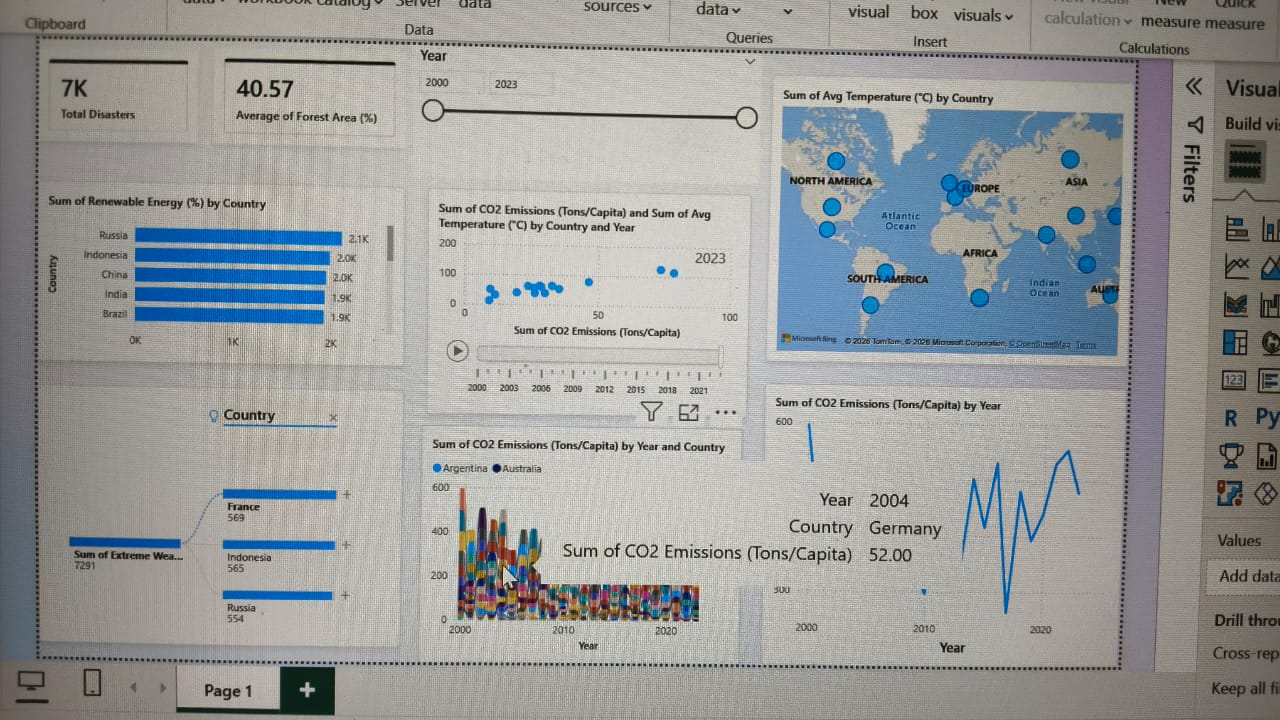

What the dashboard file says about the page in this screenshot:
{"tool":"powerbi","page":{"name":"Page 1","canvas":[1280,720],"ordinal":0},"visuals":[{"type":"map","fields":{"Category":["climate_change_dataset.Country"],"Size":["Sum(climate_change_dataset.Avg Temperature (°C))"]},"box":[850.1,24.3,429.1,335.2],"z":0},{"type":"lineChart","fields":{"Category":["climate_change_dataset.Year"],"Y":["Sum(climate_change_dataset.CO2 Emissions (Tons/Capita))"]},"box":[850.4,385.5,429,334.5],"z":1},{"type":"clusteredBarChart","fields":{"Category":["climate_change_dataset.Country"],"Y":["Sum(climate_change_dataset.Renewable Energy (%))"]},"box":[0,163.5,424.2,208.9],"z":2},{"type":"cardVisual","fields":{"Data":["Sum(climate_change_dataset.Extreme Weather Events)"]},"box":[0,11.3,186.2,106.9],"z":3},{"type":"cardVisual","fields":{"Data":["Avg(climate_change_dataset.Forest Area (%))"]},"box":[204,8.1,220.2,110.1],"z":4},{"type":"slicer","fields":{"Values":["climate_change_dataset.Year"]},"box":[432.3,0,404.8,150.6],"z":5},{"type":"scatterChart","fields":{"X":["Sum(climate_change_dataset.CO2 Emissions (Tons/Capita))"],"Y":["Sum(climate_change_dataset.Avg Temperature (°C))"],"Category":["climate_change_dataset.Country"],"Play":["climate_change_dataset.Year"]},"box":[450.1,163.5,378.9,263.9],"z":6},{"type":"decompositionTreeVisual","fields":{"Analyze":["Sum(climate_change_dataset.Extreme Weather Events)"],"ExplainBy":["climate_change_dataset.Country","climate_change_dataset.Year","climate_change_dataset.Renewable Energy (%)"]},"box":[0,399.9,424.2,302.8],"z":7},{"type":"ribbonChart","fields":{"Category":["climate_change_dataset.Year"],"Y":["Sum(climate_change_dataset.CO2 Emissions (Tons/Capita))"],"Series":["climate_change_dataset.Country"]},"box":[445.3,440.4,378.9,280.1],"z":8}]}

Visuals, with their boxes on the page's 1280x720 design canvas (x1, y1, x2, y2). These are canvas units, not pixel positions in the 1280x720 screenshot, which may show the page scaled, cropped or inside an application window:
map - climate_change_dataset.Country x Sum(climate_change_dataset.Avg Temperature (°C)): 850/24/1279/360
lineChart - climate_change_dataset.Year x Sum(climate_change_dataset.CO2 Emissions (Tons/Capita)): 850/386/1279/720
clusteredBarChart - climate_change_dataset.Country x Sum(climate_change_dataset.Renewable Energy (%)): 0/164/424/372
cardVisual - Sum(climate_change_dataset.Extreme Weather Events): 0/11/186/118
cardVisual - Avg(climate_change_dataset.Forest Area (%)): 204/8/424/118
slicer - climate_change_dataset.Year: 432/0/837/151
scatterChart - Sum(climate_change_dataset.CO2 Emissions (Tons/Capita)) x Sum(climate_change_dataset.Avg Temperature (°C)): 450/164/829/427
decompositionTreeVisual - Sum(climate_change_dataset.Extreme Weather Events) x climate_change_dataset.Country: 0/400/424/703
ribbonChart - climate_change_dataset.Year x Sum(climate_change_dataset.CO2 Emissions (Tons/Capita)): 445/440/824/720
